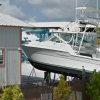Boat: (24, 28, 100, 89)
